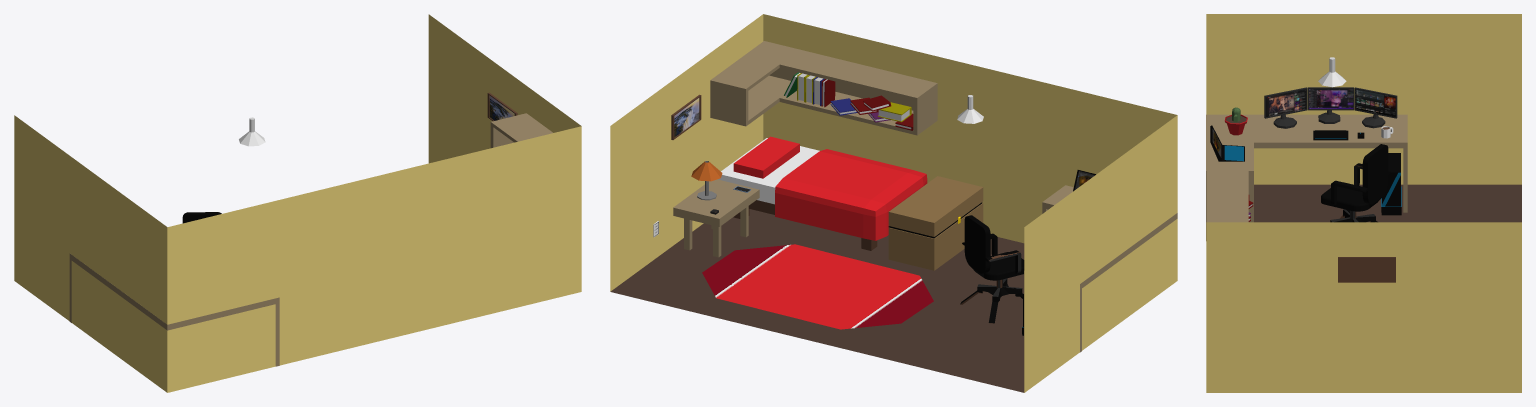
File: Habitacion Modelada en 3D.glb
The picture shows the model from 3 angles, left to right: view 1: azimuth 30°, elevation 25°; view 2: azimuth 150°, elevation 25°; view 3: azimuth 270°, elevation 25°; orthographic projection. The views are drawn at different scales.
Parts seen in each view (by area): view 1: Habitacion, Escritorio en L, esquinero, Cuadro; view 2: Habitacion, Alfombra, Cama, esquinero, Cofre de los pies, Mesa de Luz, Cilindro.002, Escritorio en L, Cuadro, Lampara de mesa; view 3: Habitacion, Escritorio en L, Cilindro.002, esquinero, Cuadro, Monitor Central, Monitor Der, Monitor izq, PC, Notebook, Maceta, Cilindro (+2 smaller).
Part boxes in pixels (left/top/right/bottom): Habitacion: left=14, top=14, right=581, bottom=392; Escritorio en L: left=69, top=253, right=279, bottom=366; esquinero: left=490, top=113, right=552, bottom=148; Cuadro: left=487, top=92, right=517, bottom=121; Habitacion: left=610, top=14, right=1177, bottom=392; Alfombra: left=702, top=244, right=933, bottom=329; Cama: left=718, top=136, right=927, bottom=250; esquinero: left=710, top=41, right=937, bottom=135; Cofre de los pies: left=888, top=176, right=983, bottom=270; Mesa de Luz: left=673, top=179, right=759, bottom=257; Cilindro.002: left=960, top=215, right=1024, bottom=323; Escritorio en L: left=1024, top=185, right=1177, bottom=352; Cuadro: left=671, top=94, right=701, bottom=139; Lampara de mesa: left=691, top=161, right=722, bottom=200; Habitacion: left=1206, top=14, right=1521, bottom=392; Escritorio en L: left=1206, top=114, right=1407, bottom=240; Cilindro.002: left=1321, top=144, right=1390, bottom=222; esquinero: left=1206, top=161, right=1248, bottom=222; Cuadro: left=1338, top=257, right=1395, bottom=282; Monitor Central: left=1307, top=87, right=1353, bottom=123; Monitor Der: left=1354, top=87, right=1397, bottom=128; Monitor izq: left=1264, top=87, right=1307, bottom=128; PC: left=1381, top=153, right=1401, bottom=215; Notebook: left=1210, top=125, right=1244, bottom=161; Maceta: left=1224, top=107, right=1247, bottom=135; Cilindro: left=1318, top=57, right=1346, bottom=87.
Bounding box in the file's own units: 5.89 × 2.64 × 3.77.
Materials: 27 (27 with a texture image).
